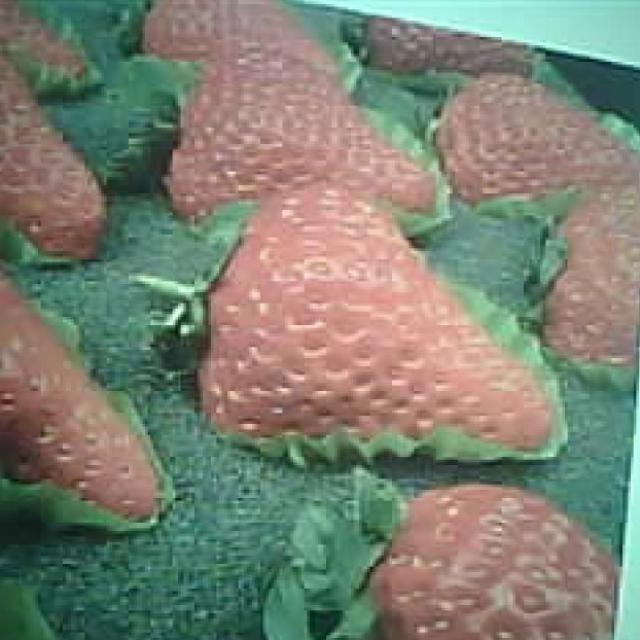Healthy Fruit: (179, 176, 569, 470), (155, 26, 445, 213), (416, 59, 630, 216)
